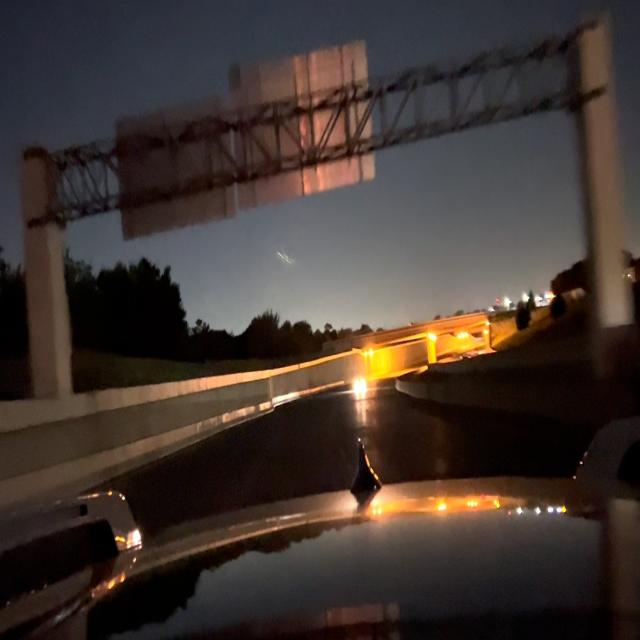back-of-sign: (233, 40, 376, 209), (113, 101, 231, 240)
